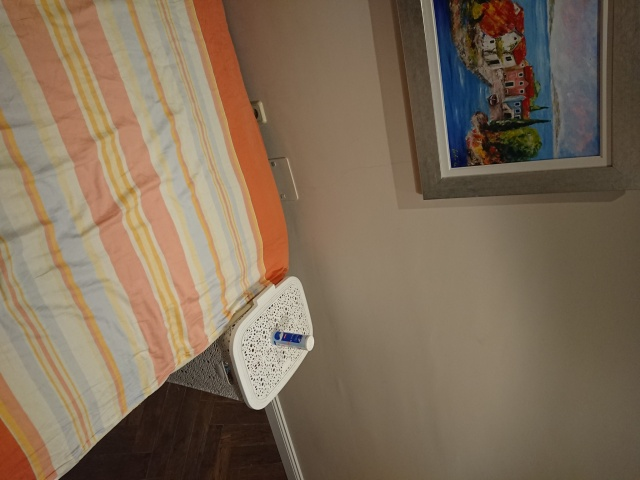Solana Pag Fine Sea Salt 250g: (270, 327, 316, 353)
